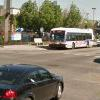Bus: (43, 22, 95, 52)
